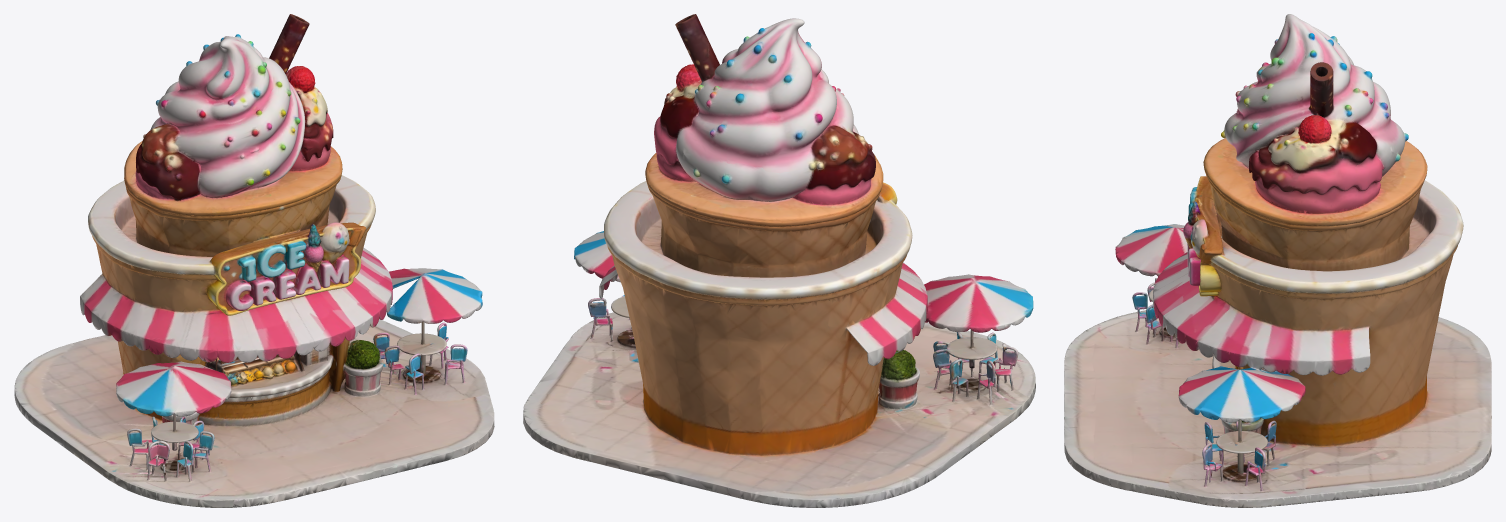
The model's file is icecream.final.glb.
The picture shows the model from 3 angles, left to right: view 1: azimuth 30°, elevation 25°; view 2: azimuth 150°, elevation 25°; view 3: azimuth 270°, elevation 25°; orthographic projection. The views are drawn at different scales.
Bounding box in the file's own units: 1.9 × 1.79 × 1.76.
Materials: 1 (1 with a texture image).
